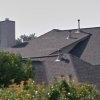Chimney: (1, 13, 22, 52)
